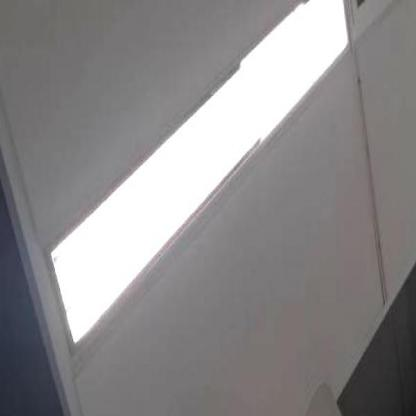light_on: (32, 0, 376, 398)
